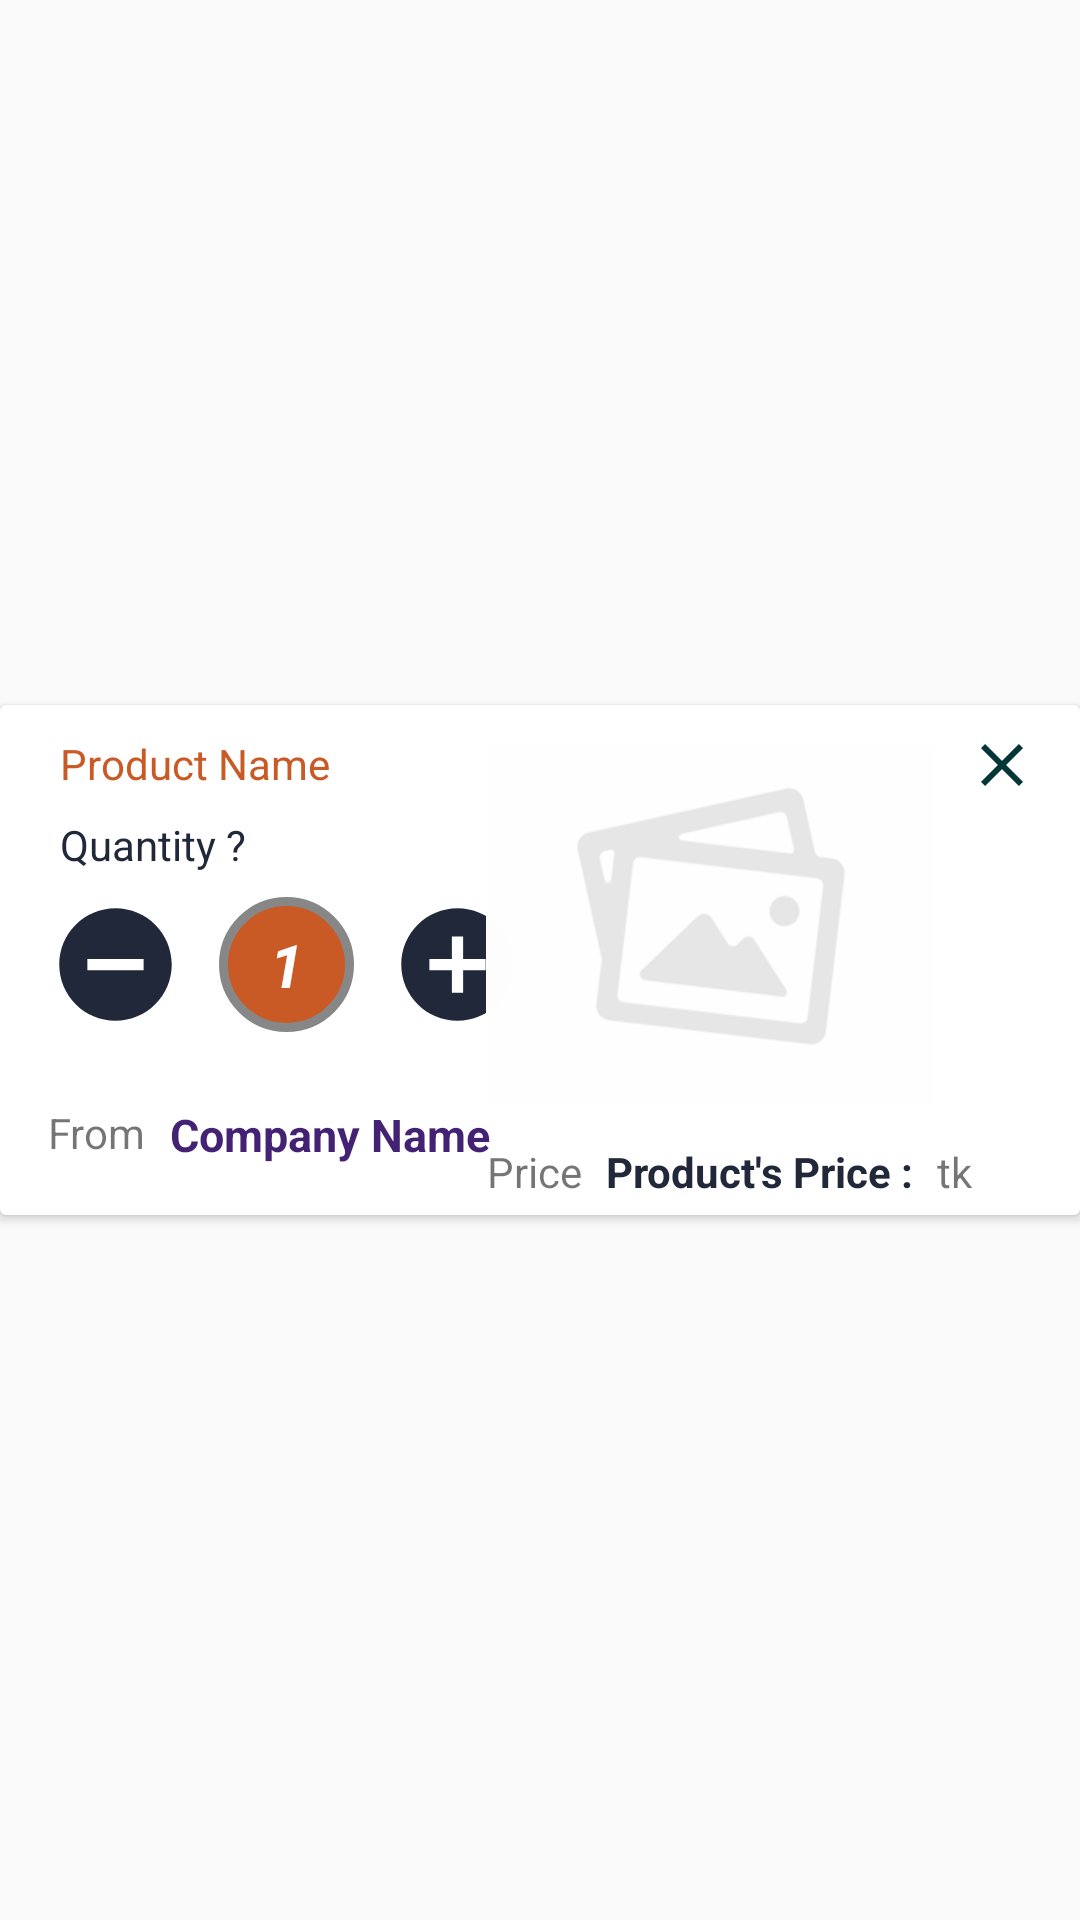

Named icons in this screenshot (1080w x 1920h) and their bounding boxes, box=[x1, y1, x2, y2]:
clear: box=[981, 744, 1023, 786]
remove circle: box=[59, 908, 172, 1021]
